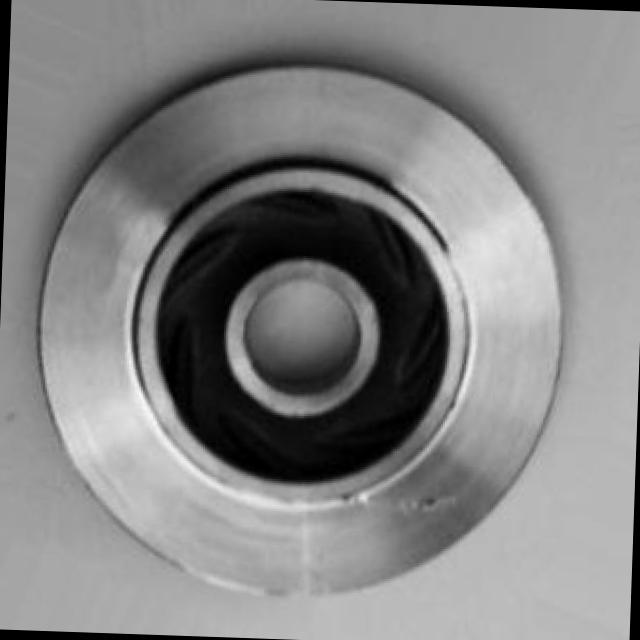Defect: (404, 490, 453, 516)
